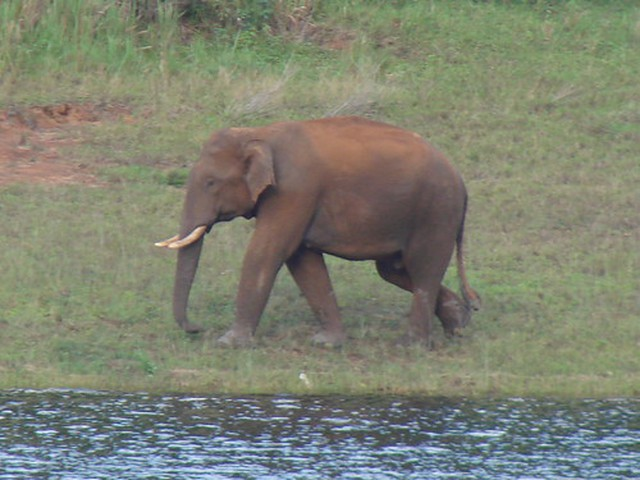Elephant: (156, 111, 504, 350)
